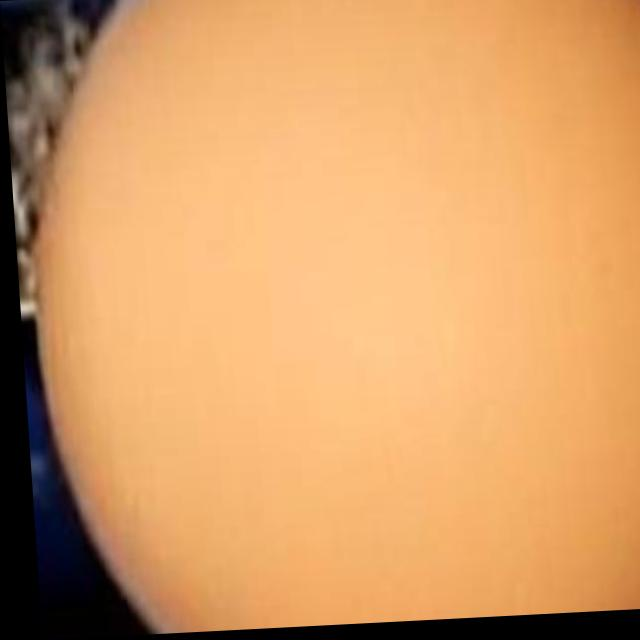fresh: (20, 0, 640, 639)
